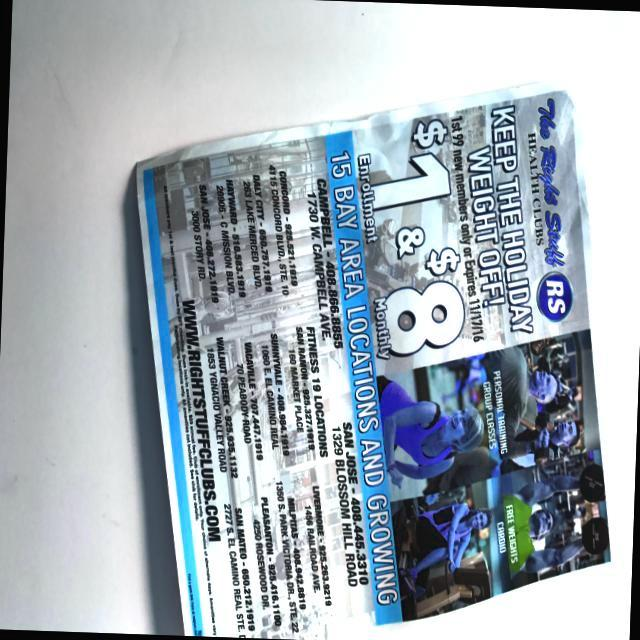paper: (79, 62, 640, 640)
